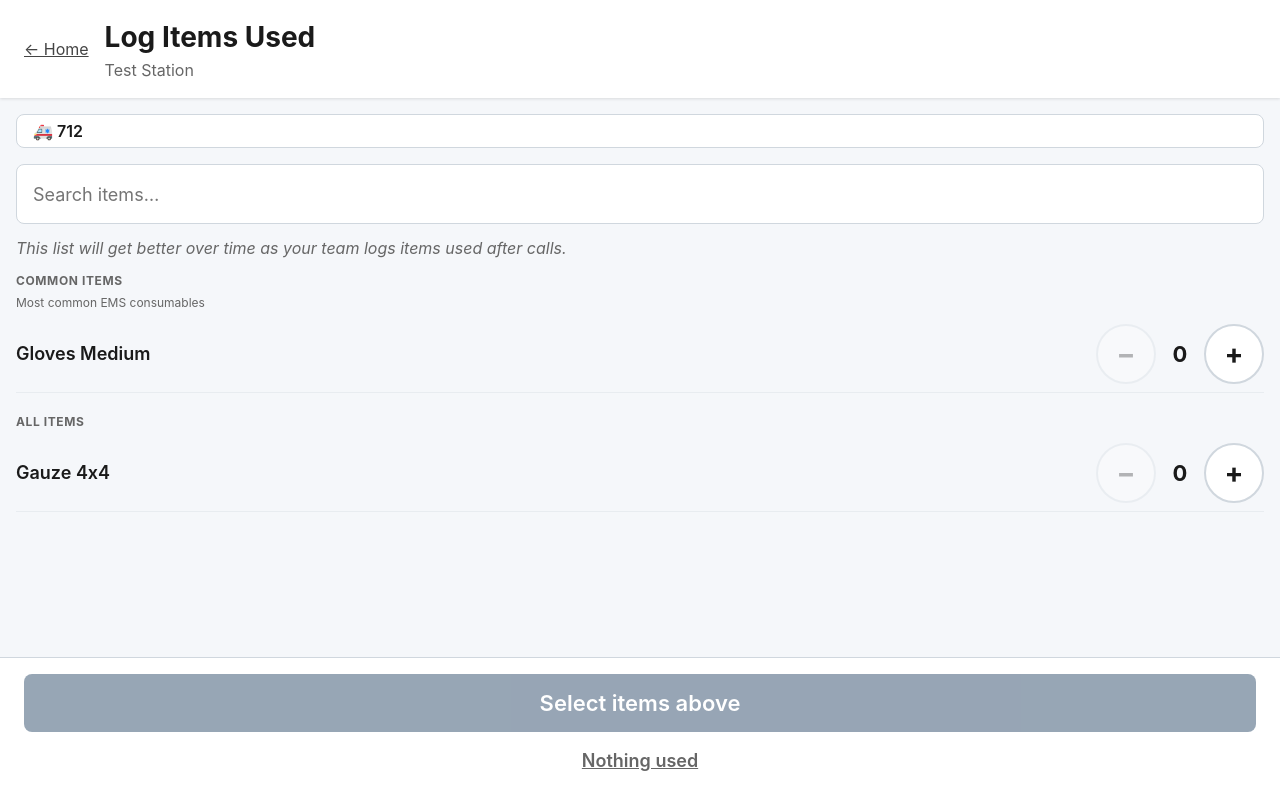
Test: UsageLogScreen -- Done submits correct payload › sends vehicle_id (not location_id) when a vehicle is selected
Expected: the text "Gloves Medium" is shown, [16,343,150,364]
Click the button named "add one gloves medium".
click(1234, 354)  # box [1204,324,1264,384]
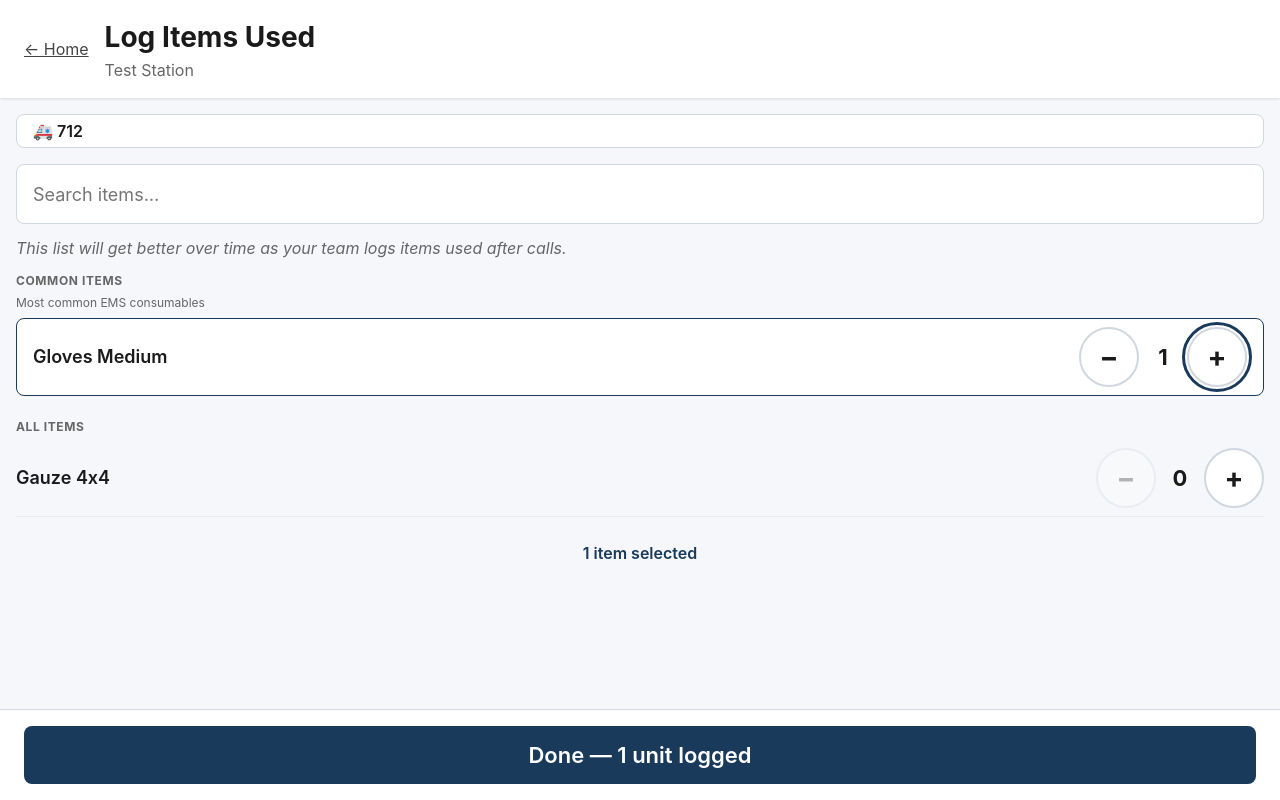
Expected: the button "Done — 1 unit logged" is enabled
Click the button "Done — 1 unit logged".
click(640, 755)  # box [24,726,1256,784]
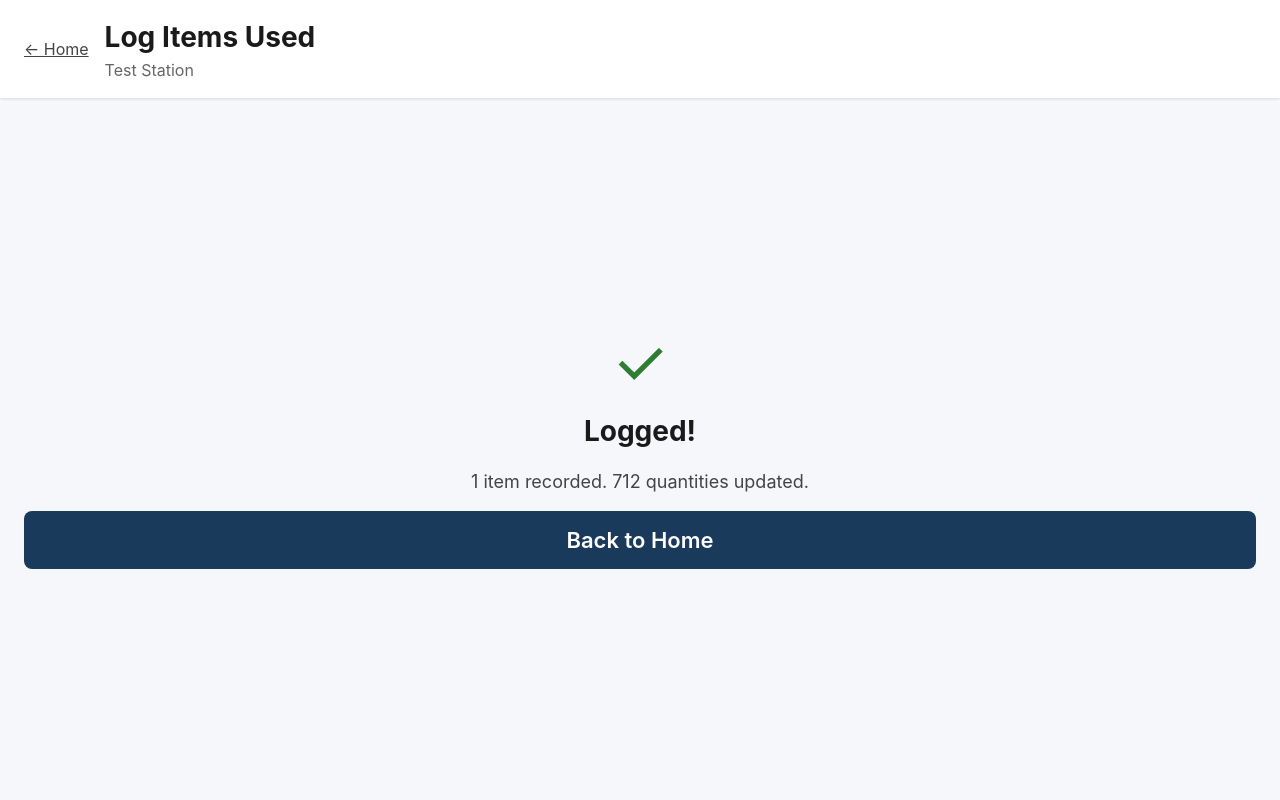
Expected: the heading "Logged!" is shown, [584,410,696,452]
